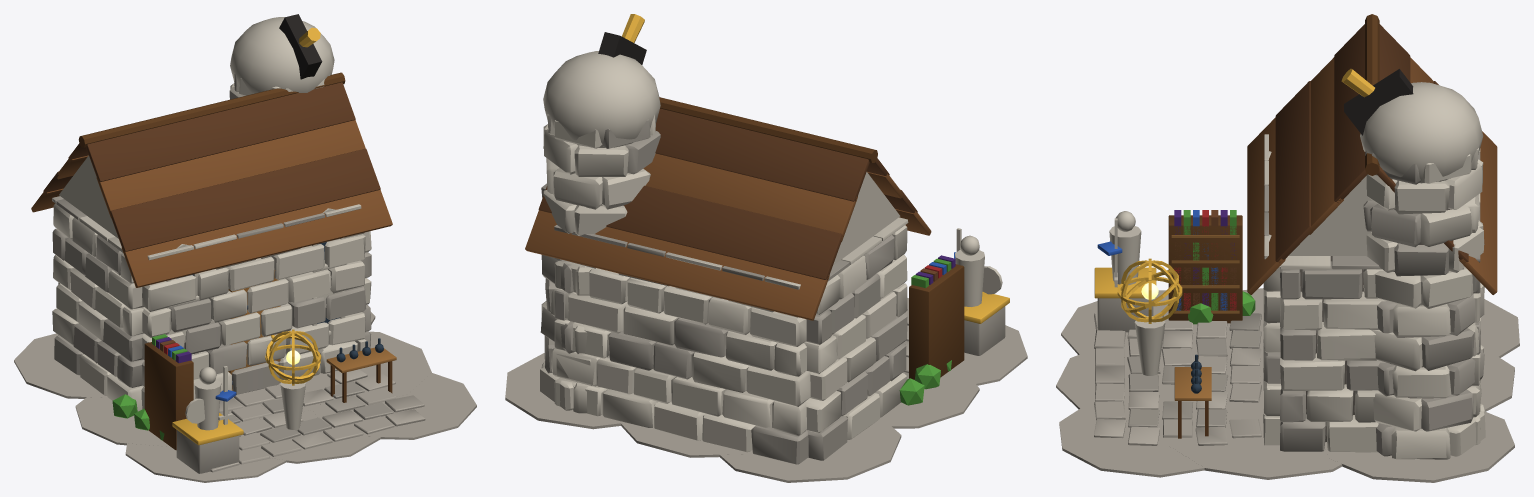
Rendered from akademia_poz14.glb.
3 views of the same model, side by side, from view 1: azimuth 30°, elevation 25°; view 2: azimuth 150°, elevation 25°; view 3: azimuth 270°, elevation 25° (orthographic). The views are drawn at different scales.
Visible parts, largest first — view 1: akademia_poz14; view 2: akademia_poz14; view 3: akademia_poz14.
Part boxes in pixels (x1,y1,x2,y2): akademia_poz14: (14, 14, 476, 482); akademia_poz14: (505, 14, 1027, 482); akademia_poz14: (1056, 14, 1519, 482).
Size of the model in its own units: 7.44 by 6.7 by 7.51.
